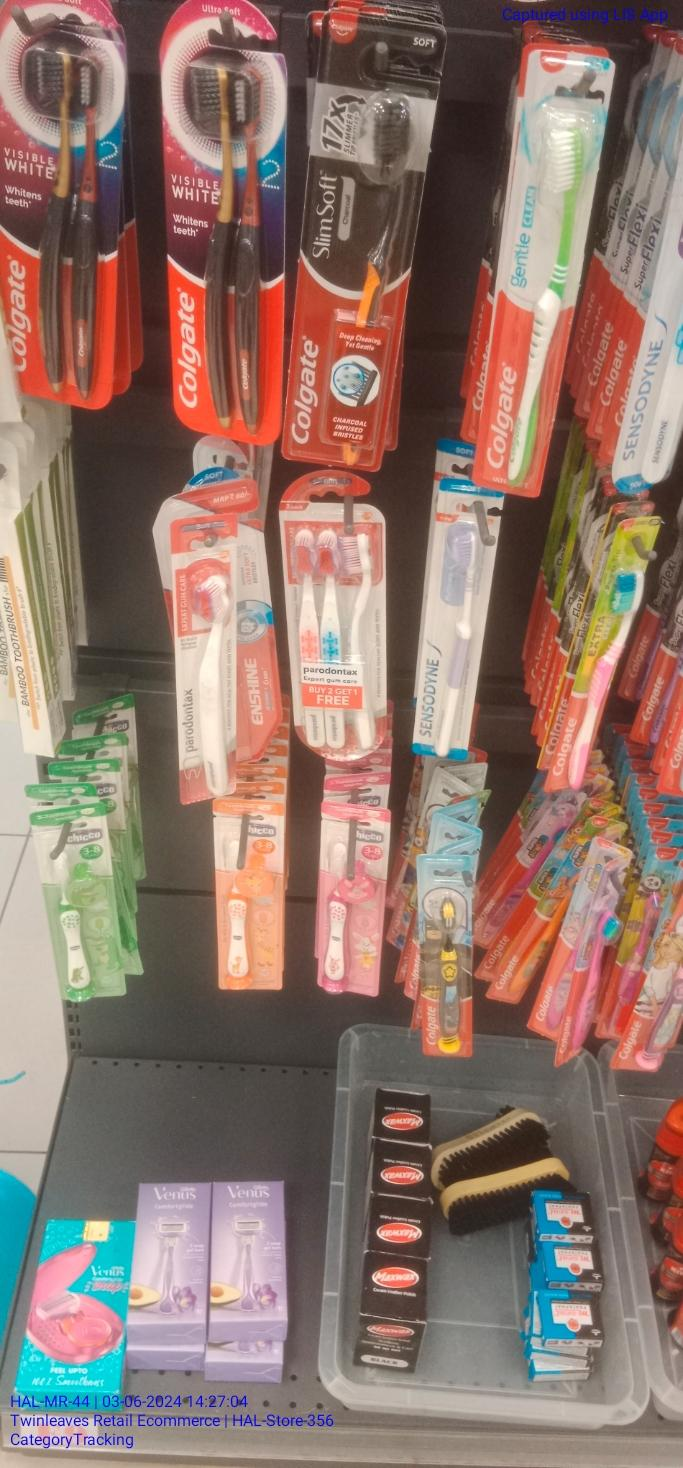soap: (304, 10, 409, 465)
